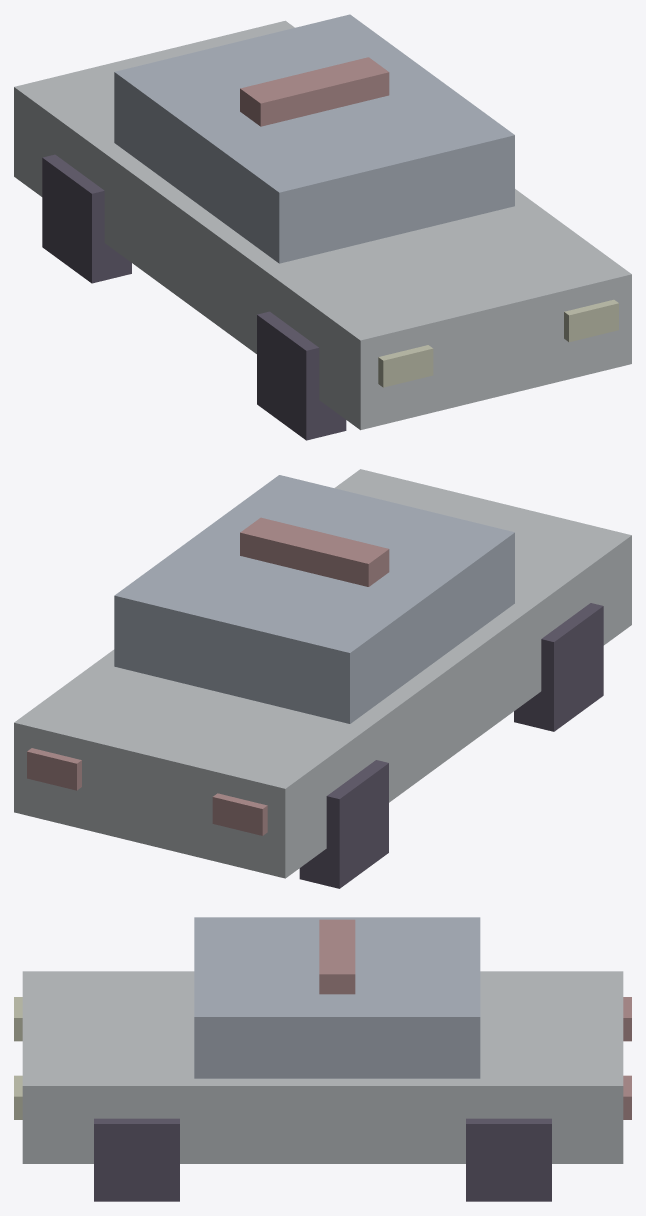
File: veh_ambulance.glb
The picture shows the model from 3 angles, top to bottom: view 1: azimuth 30°, elevation 25°; view 2: azimuth 150°, elevation 25°; view 3: azimuth 270°, elevation 25°; orthographic projection. The views are drawn at different scales.
Parts seen in each view (by area): view 1: veh_ambulance; view 2: veh_ambulance; view 3: veh_ambulance.
Boxes of the visible parts, x1,y1,x2,y2 form: veh_ambulance: [14, 14, 631, 440]; veh_ambulance: [14, 469, 631, 888]; veh_ambulance: [14, 917, 631, 1201].
Size of the model in its own units: 2.08 by 1.48 by 4.32.
